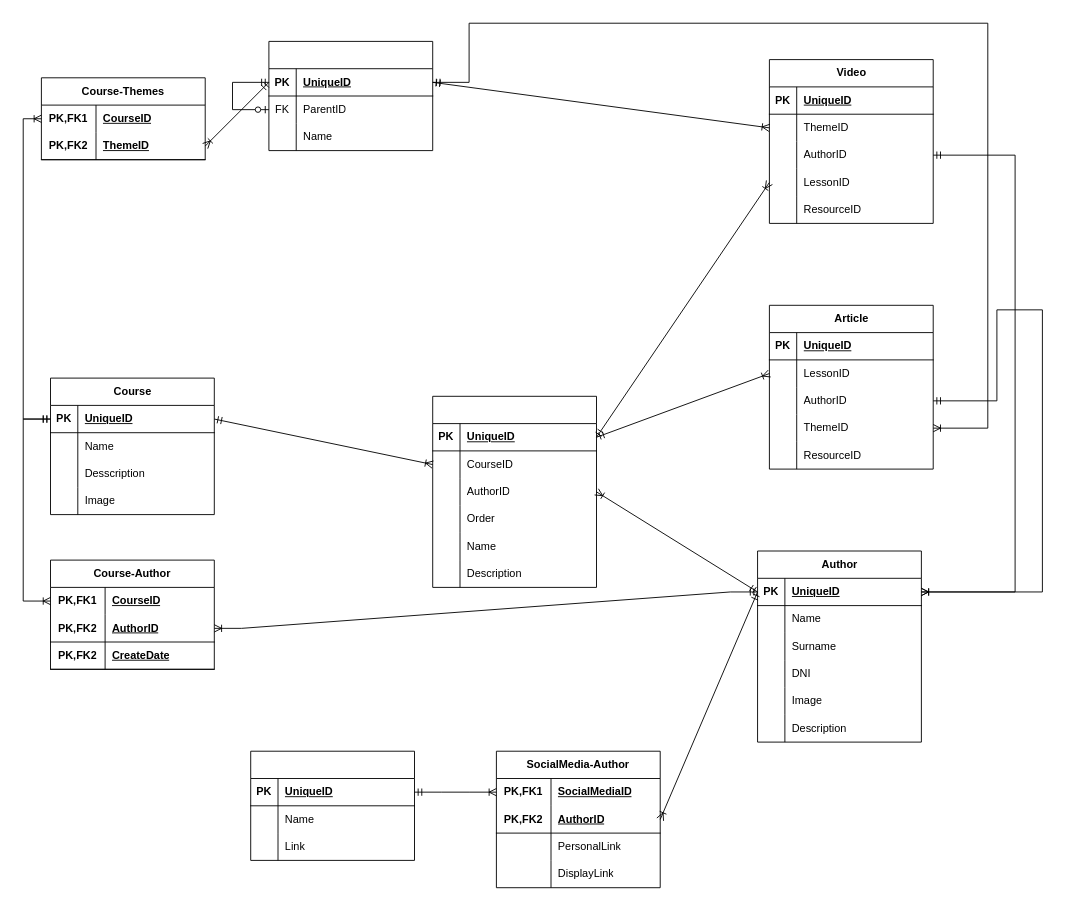
Image size: 1067x904. Some labels were removed from this diagram. Here are the shapes that lost their labels. From the top down, the box of each, then its label:
(268, 40, 433, 151): Themes
(432, 395, 597, 587): Lesson
(250, 750, 415, 860): SocialMedia
